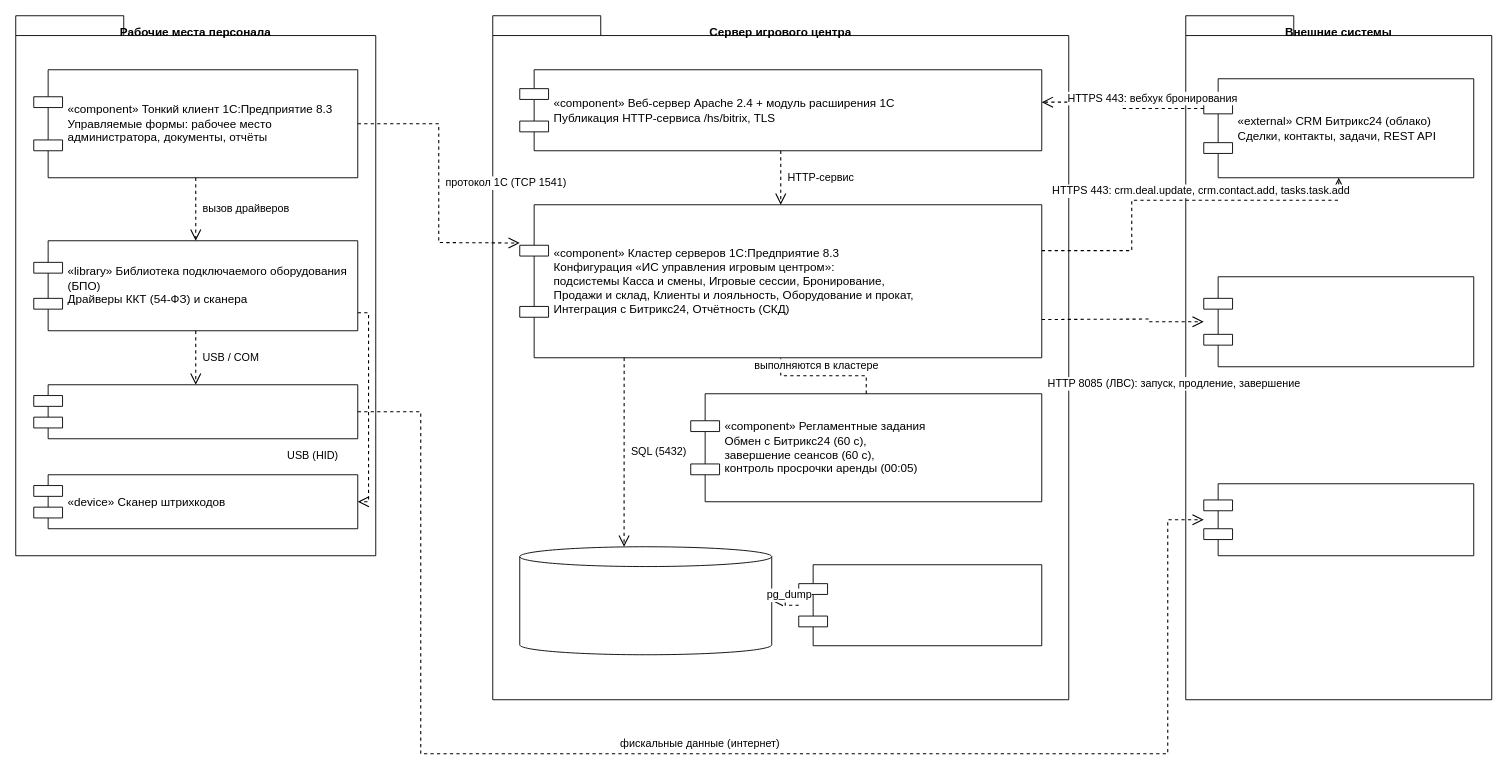
This 1508x781 diagram has some shape labels left out. Each missing label, with the centre of its shape:
"«component» Агент рабочей станции на каждом игровом ПК" goes at point (1338, 321).
"«component» Резервное копирование pg_dump ежесуточно" goes at point (920, 605).
"«database» PostgreSQL 16 (сборка для 1С) Информационная база" goes at point (645, 600).
"«device» ККТ с фискальным накопителем" goes at point (195, 411).
"«external» Оператор фискальных данных" goes at point (1338, 519).
